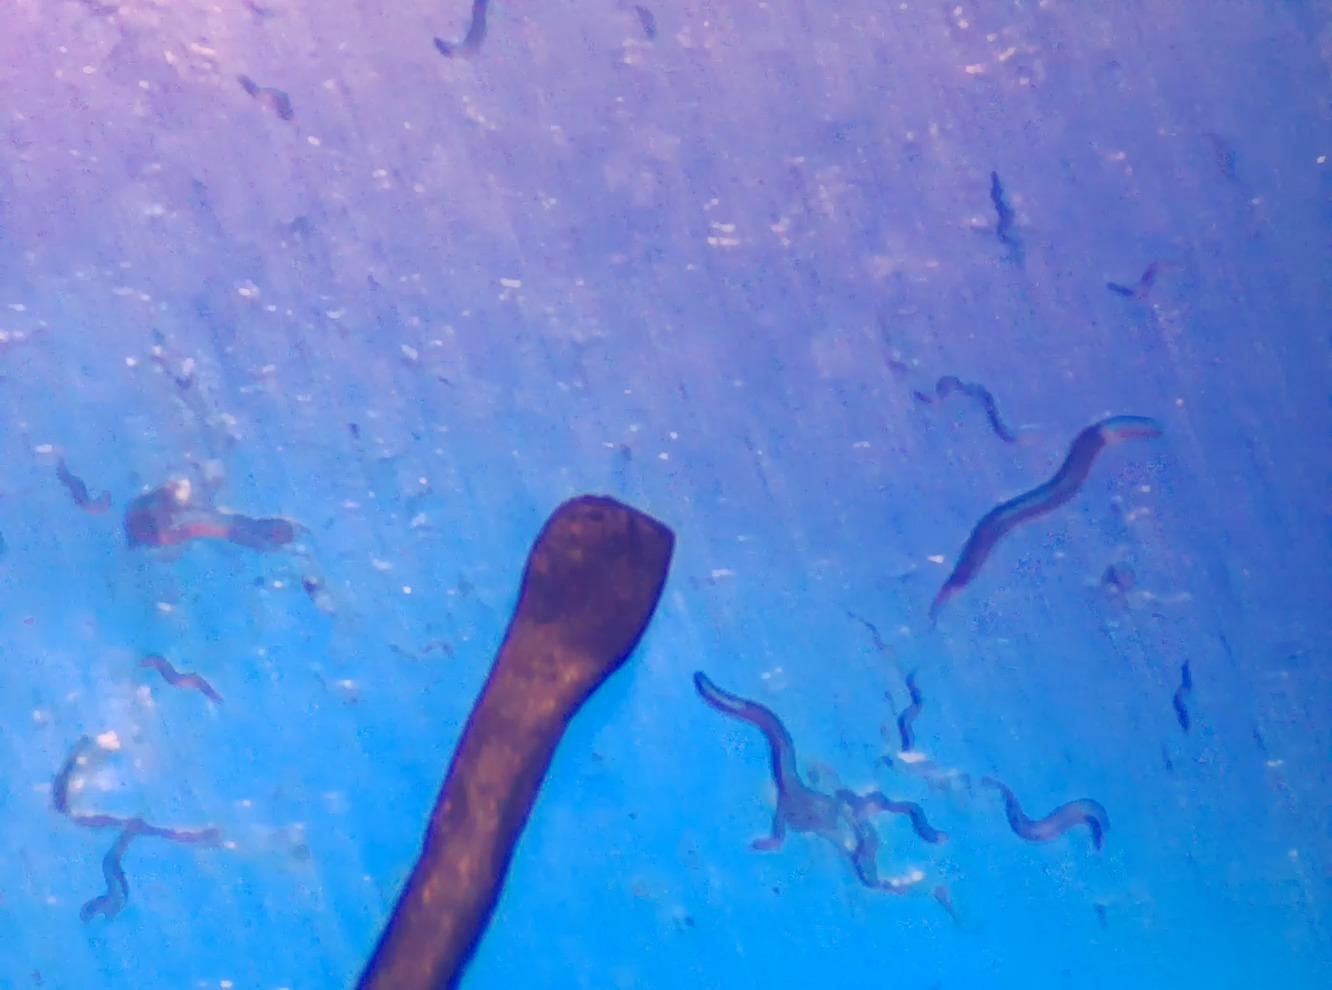pick: (354, 495, 674, 989)
worm: (931, 415, 1161, 621)
